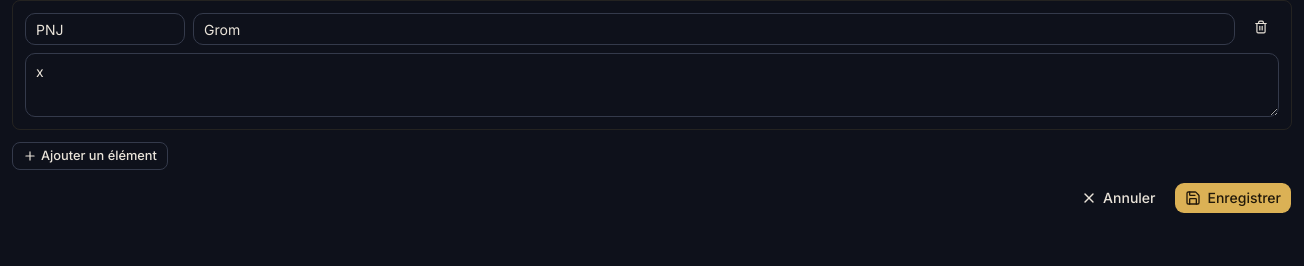
Test: <ElementsEditor> (Story 8.3) › a row with a blank category or name blocks the save
Clear the field named "Catégorie de l'élément 1" at (105, 29), box [25,13,185,45]
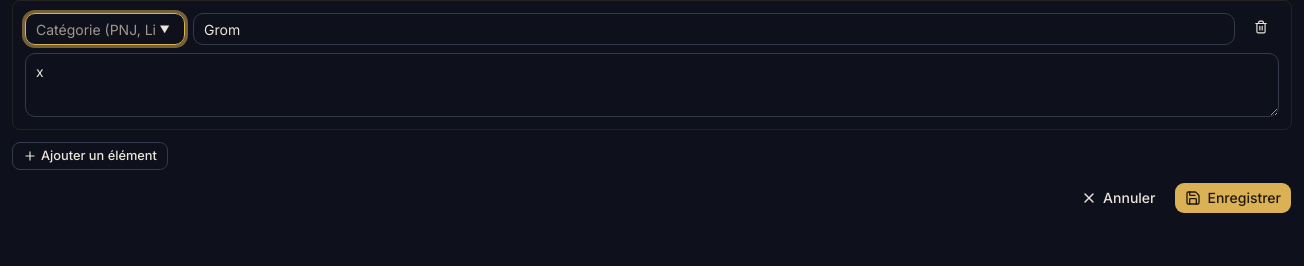
Click the button "Enregistrer".
click(1233, 198)  # box [1174,182,1292,214]
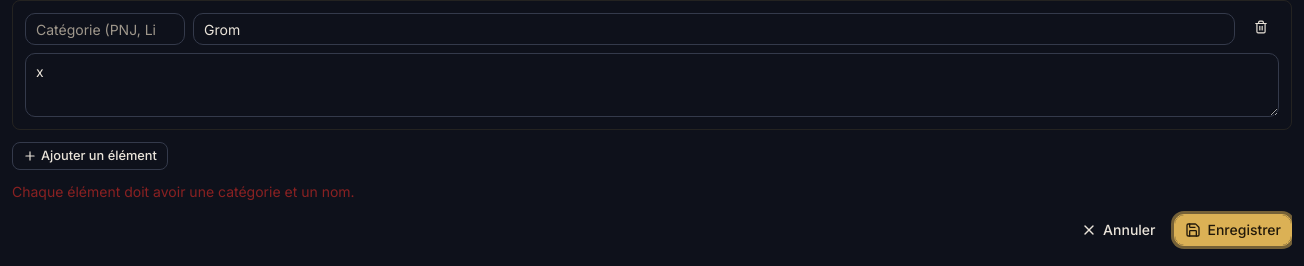
Result: the message shows "catégorie et un nom" at [12,183,355,200]
